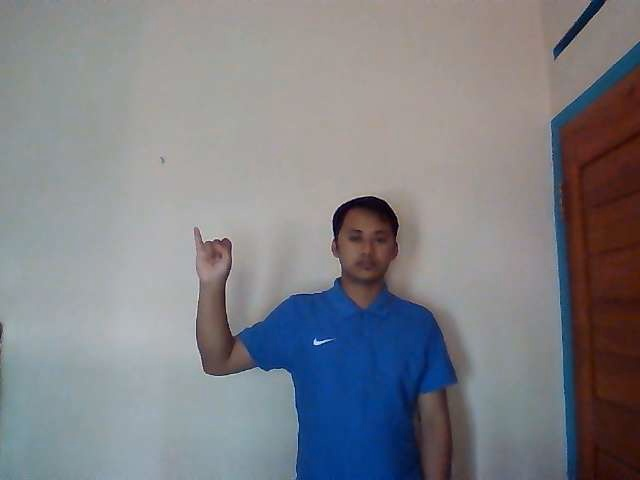I: (192, 224, 234, 283)
